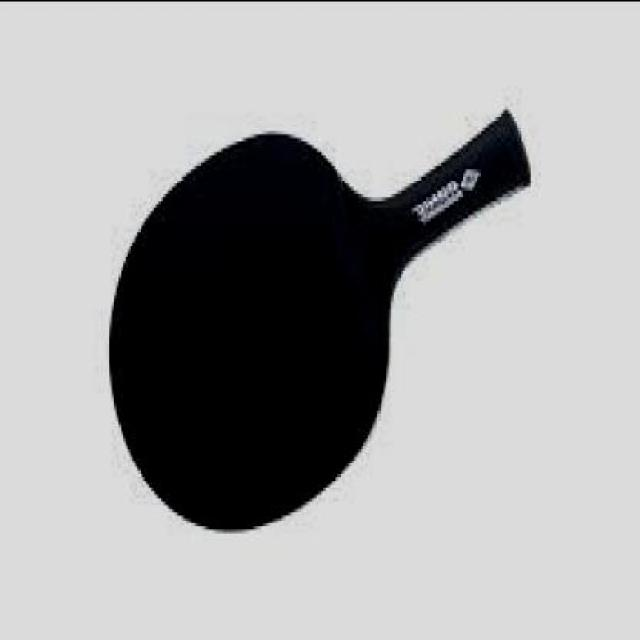table_tennis_racket: (106, 133, 394, 539)
